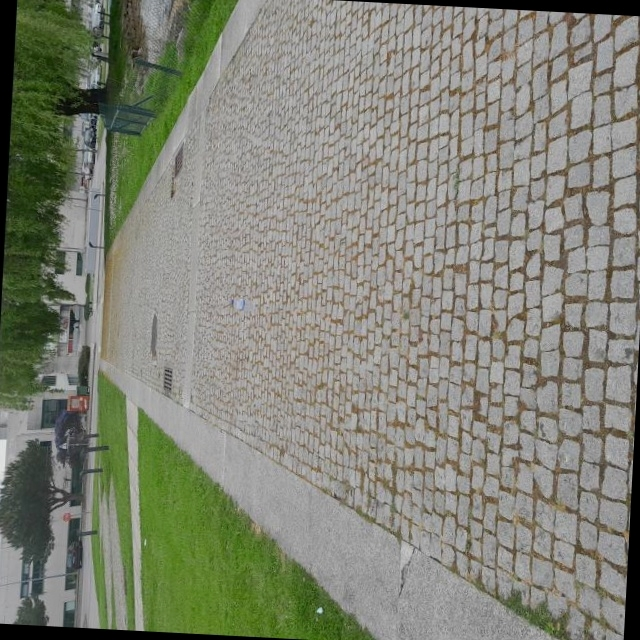Plastic-bottle: (222, 297, 260, 321)
